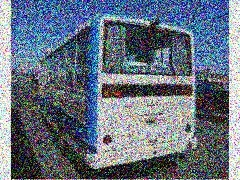bus: (36, 15, 199, 175)
